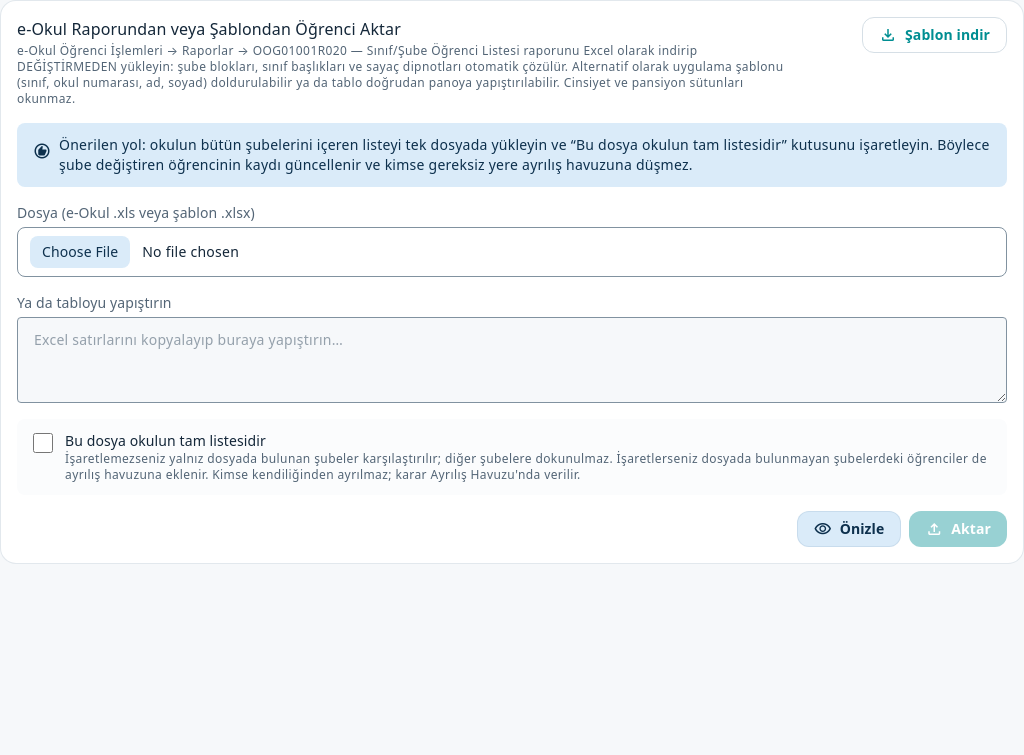
AktarimPaneli — öğrenci mutabakatı ve ayrılış havuzu › aktarım kimseyi ayırmadığı için onay istemez; sonuç havuza bağlanır
Type "liste" into the text box labelled "Ya da tabloyu yapıştırın" at (512, 360), box [17,317,1007,403]
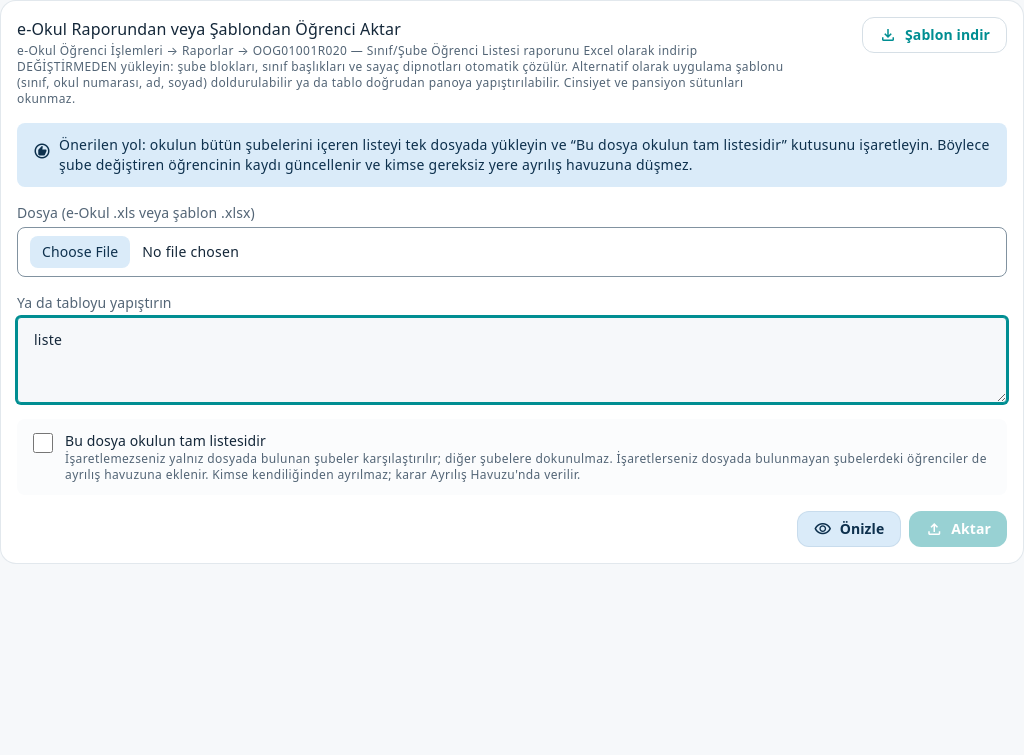
Click the button "Önizle" at (849, 529), box [797,511,901,547]
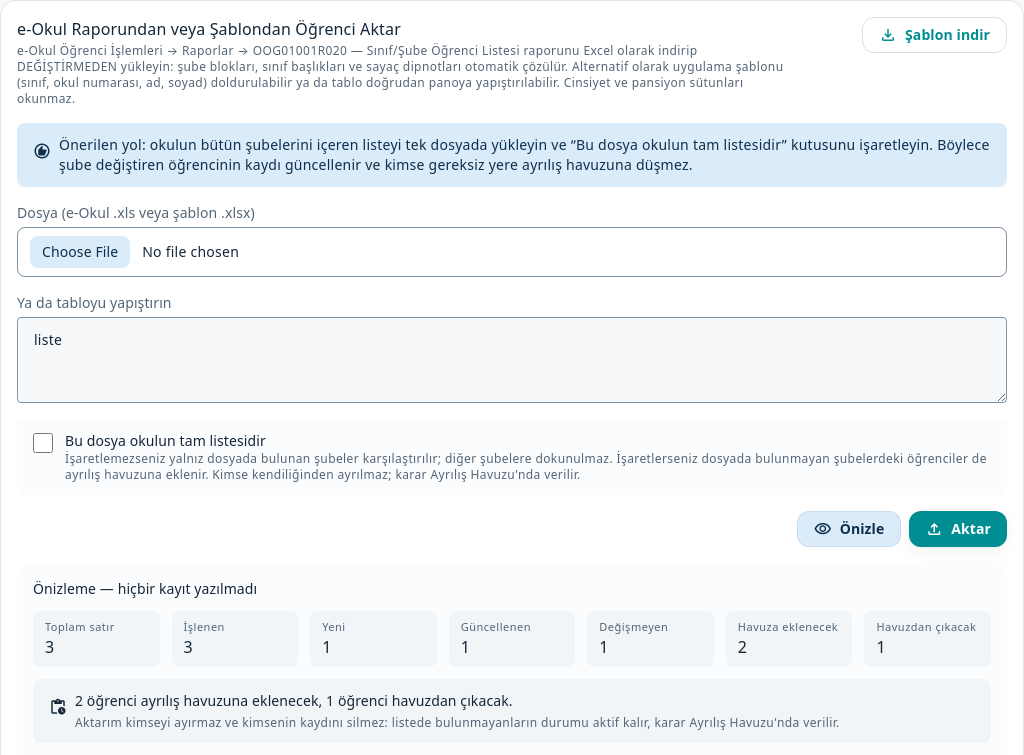
Expected: the text "Önizleme — hiçbir kayıt yazılmadı" is shown, [33,579,257,598]
Click the button "Aktar" at (958, 529), box [909,511,1007,547]
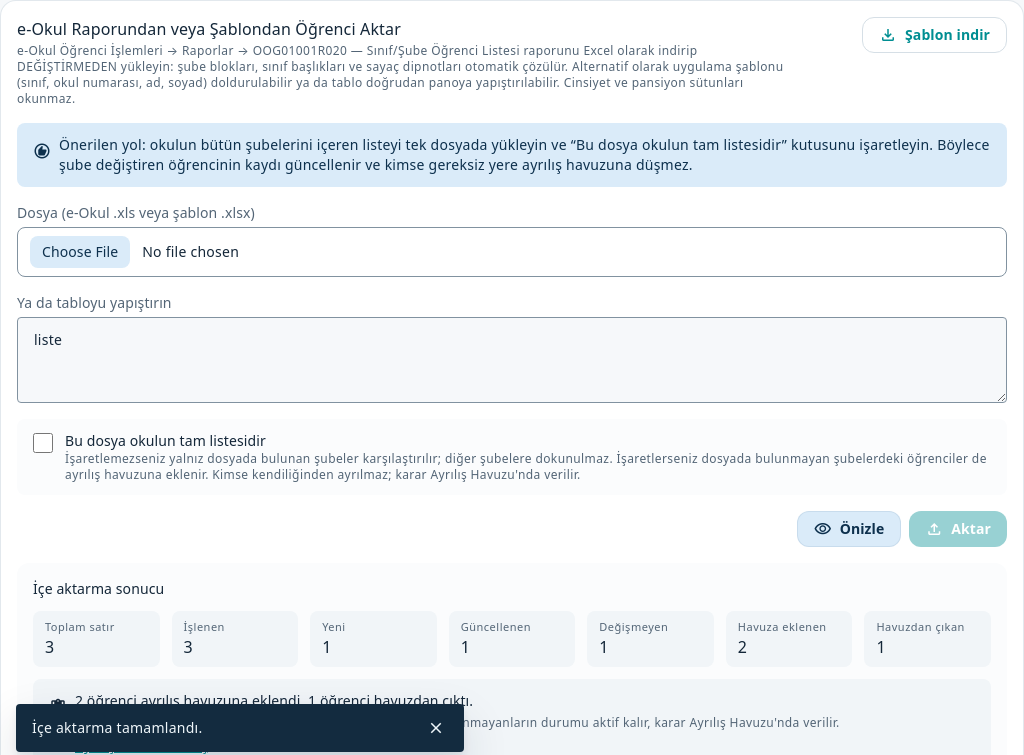
Expected: the text "2 öğrenci ayrılış havuzuna eklendi, 1 öğrenci havuzdan çıktı." is shown, [75,691,473,710]
